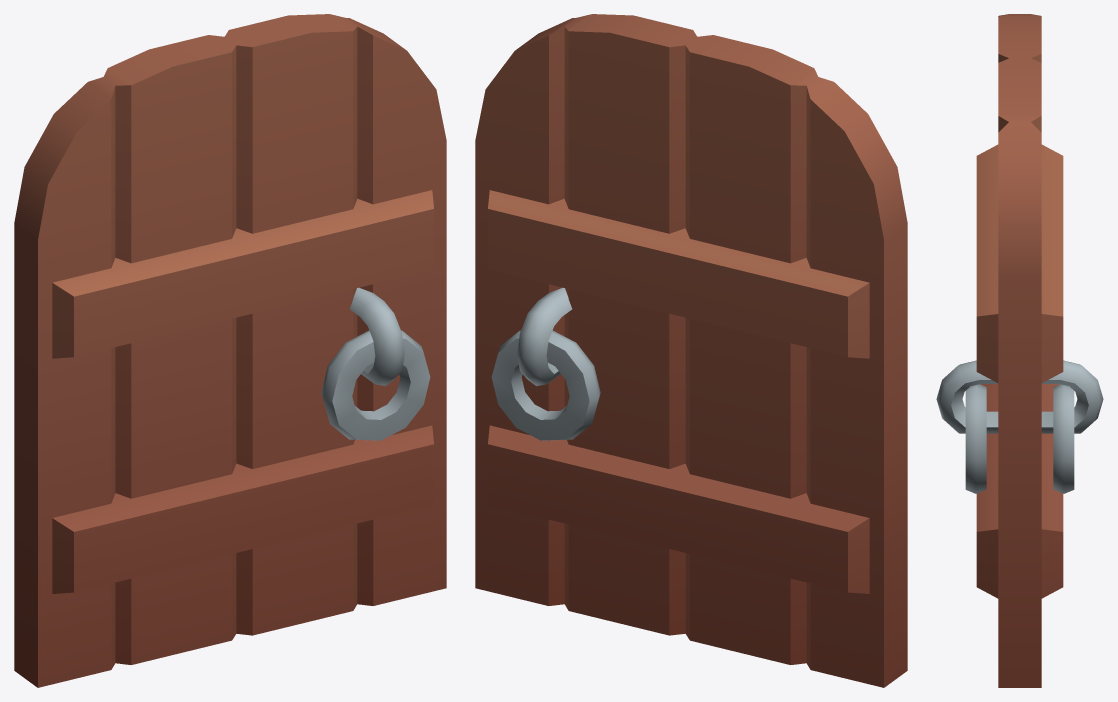
The model's file is wall_door.gltf.glb.
3 views of the same model, side by side, from view 1: azimuth 30°, elevation 25°; view 2: azimuth 150°, elevation 25°; view 3: azimuth 270°, elevation 25° (orthographic). The views are drawn at different scales.
Parts seen in each view (by area): view 1: wall_doorway_door; view 2: wall_doorway_door; view 3: wall_doorway_door.
Part boxes in pixels (x1,y1,x2,y2): wall_doorway_door: (14,14,446,687); wall_doorway_door: (475,14,907,687); wall_doorway_door: (936,14,1103,687).
Bounding box in the file's own units: 2 × 2.75 × 0.7735.
Materials: 1 (1 with a texture image).
